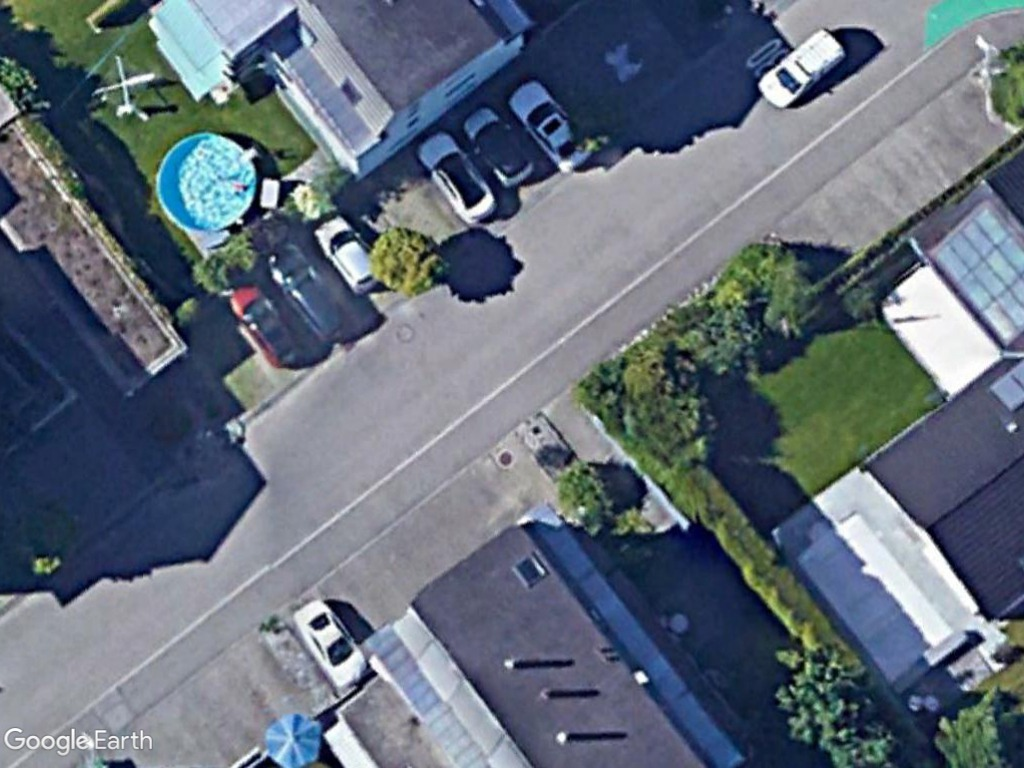car: (264, 245, 359, 345), (504, 78, 595, 176), (413, 128, 500, 225), (291, 599, 370, 688), (307, 213, 383, 293)
van: (754, 23, 851, 111)
